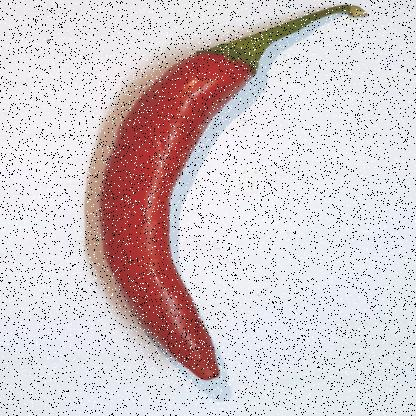chili: (93, 3, 373, 383)
